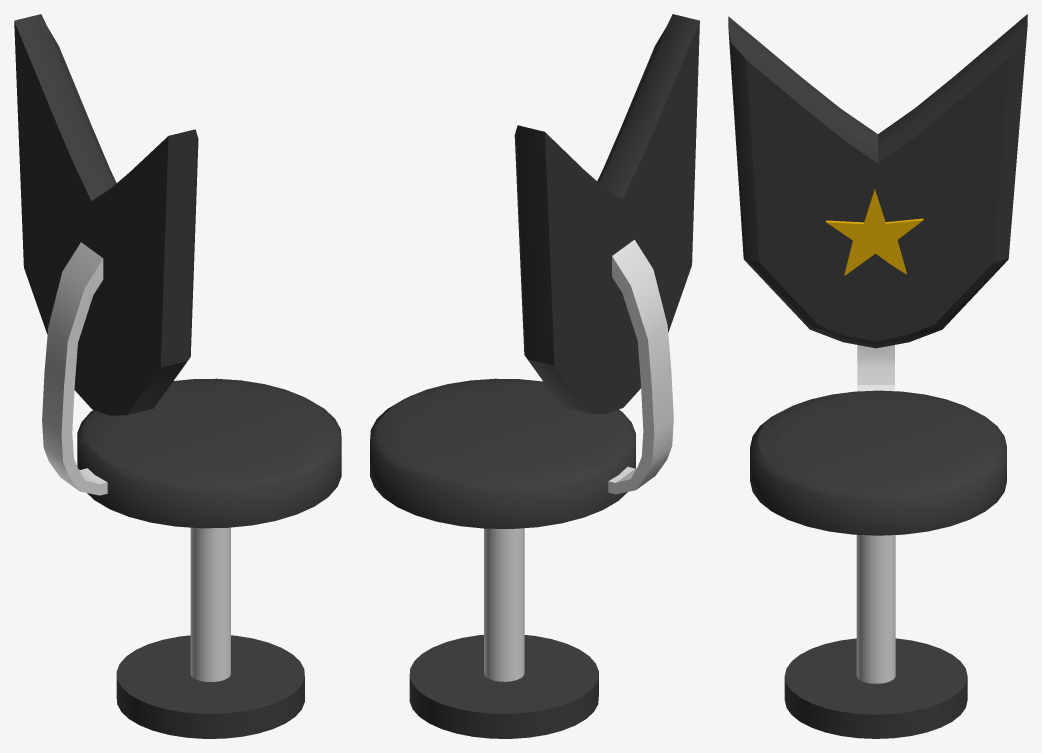
The model's file is DiningChair.glb.
3 renders of one model, left to right at view 1: azimuth 30°, elevation 25°; view 2: azimuth 150°, elevation 25°; view 3: azimuth 270°, elevation 25°, orthographic. The views are drawn at different scales.
Visible parts, largest first — view 1: Cube.001, Cylinder, Cylinder.002, Cube, Cylinder.001; view 2: Cube.001, Cylinder, Cylinder.002, Cube, Cylinder.001; view 3: Cube.001, Cylinder, Cylinder.002, Cylinder.001, Cube.002, Cube.
Boxes of the visible parts, left/top/right/bottom form: Cube.001: left=14, top=14, right=198, bottom=415; Cylinder: left=77, top=378, right=341, bottom=528; Cylinder.002: left=116, top=635, right=304, bottom=738; Cube: left=42, top=242, right=107, bottom=495; Cylinder.001: left=190, top=527, right=230, bottom=681; Cube.001: left=514, top=14, right=699, bottom=413; Cylinder: left=370, top=378, right=635, bottom=528; Cylinder.002: left=409, top=634, right=598, bottom=738; Cube: left=608, top=240, right=673, bottom=494; Cylinder.001: left=484, top=528, right=524, bottom=681; Cube.001: left=728, top=14, right=1027, bottom=348; Cylinder: left=750, top=390, right=1006, bottom=535; Cylinder.002: left=784, top=638, right=967, bottom=738; Cylinder.001: left=856, top=535, right=895, bottom=683; Cube.002: left=826, top=189, right=923, bottom=275; Cube: left=857, top=345, right=894, bottom=391.
Size of the model in its own units: 2.31 by 5.25 by 2.26.
